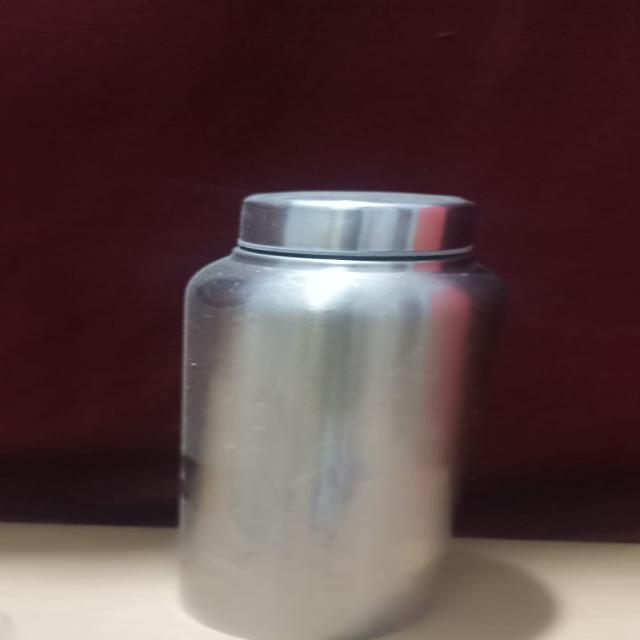bottle: (160, 169, 516, 640)
